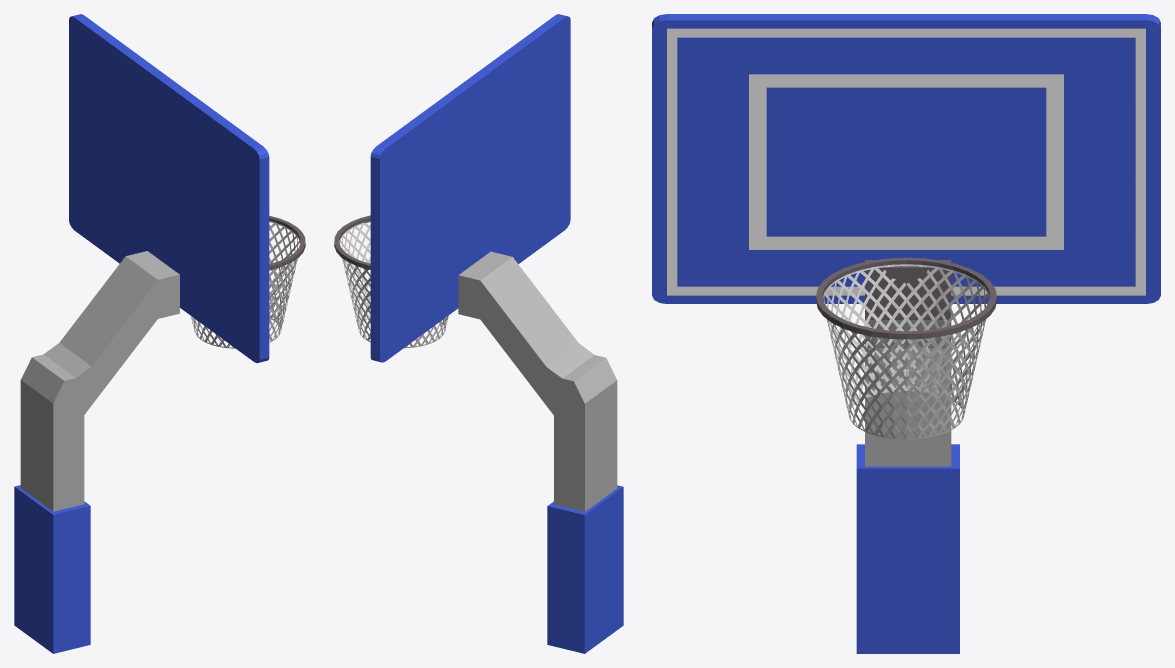
The model's file is basket.glb.
The picture shows the model from 3 angles, left to right: view 1: azimuth 30°, elevation 25°; view 2: azimuth 150°, elevation 25°; view 3: azimuth 270°, elevation 25°; orthographic projection. The views are drawn at different scales.
Parts seen in each view (by area): view 1: target, pole, plush, basket; view 2: target, pole, plush, basket; view 3: target, plush, basket, pole, support.
Part boxes in pixels (x1,y1,x2,y2): target: (69, 14, 269, 363); pole: (20, 251, 179, 511); plush: (14, 485, 90, 653); basket: (191, 215, 305, 348); target: (370, 14, 570, 362); pole: (458, 251, 617, 511); plush: (547, 485, 623, 653); basket: (334, 215, 448, 348); target: (652, 14, 1160, 303); plush: (856, 444, 959, 653); basket: (816, 257, 996, 439); pole: (865, 320, 951, 466); support: (865, 260, 951, 319).
Size of what is drawn, in the model's own units: 3.46 by 6.62 by 4.36.
